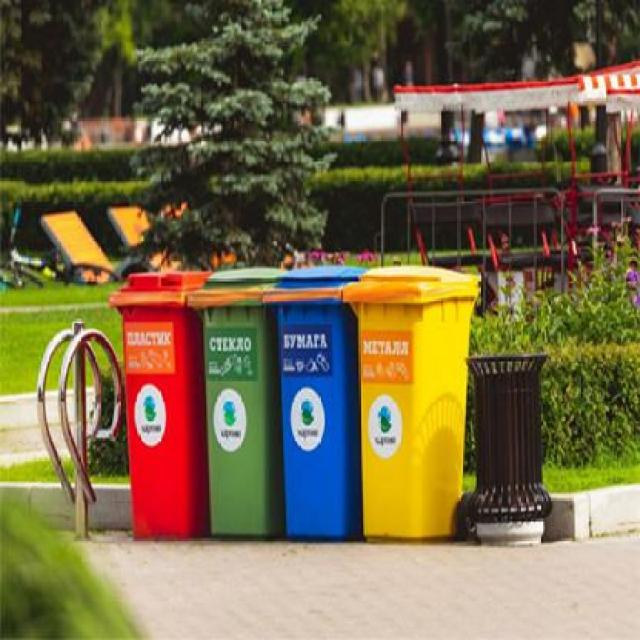garbage container: (358, 257, 485, 549), (106, 262, 206, 541), (274, 258, 357, 550), (206, 262, 282, 548)
